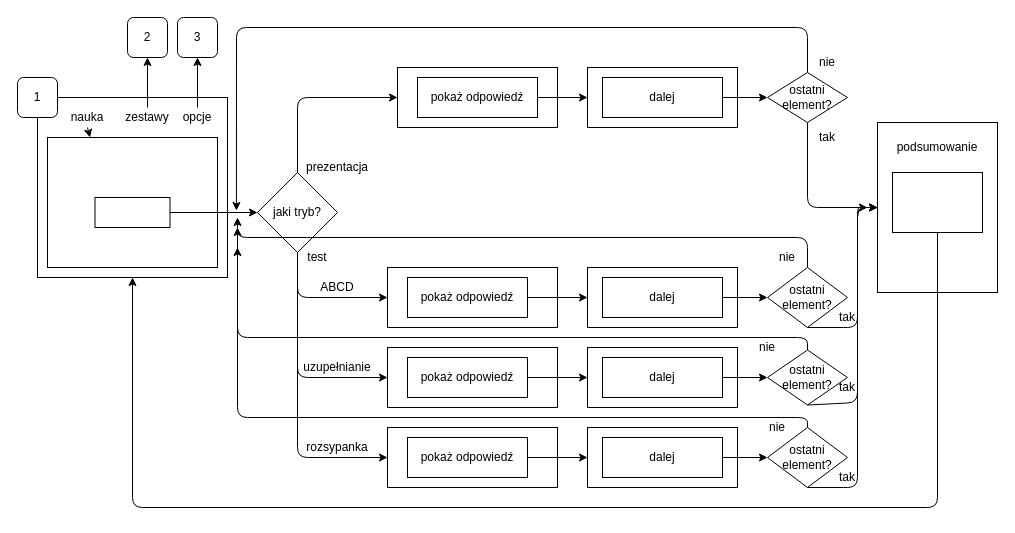
Image size: 1015x533. Some labels were removed from this diagram. Here are the shapes that lost their labels. From the top down, the box of each, then its label:
(94, 196, 170, 228): start
(892, 172, 982, 232): koniec
